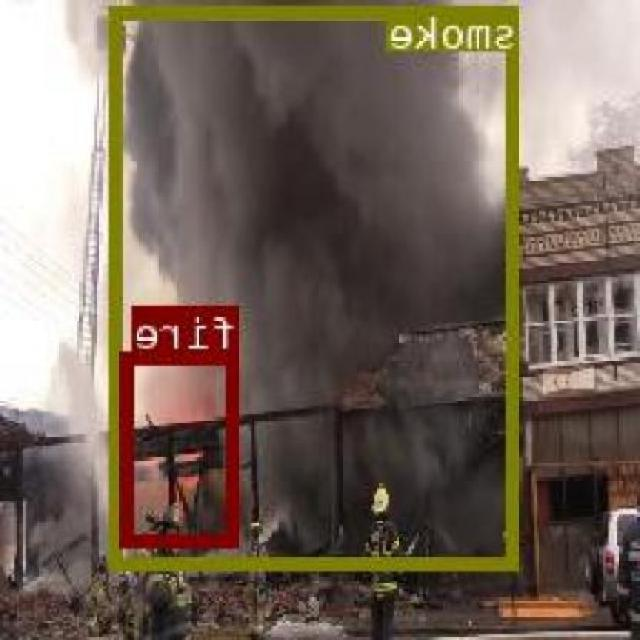Fire: (126, 350, 240, 544)
Smoke: (113, 4, 521, 568)
